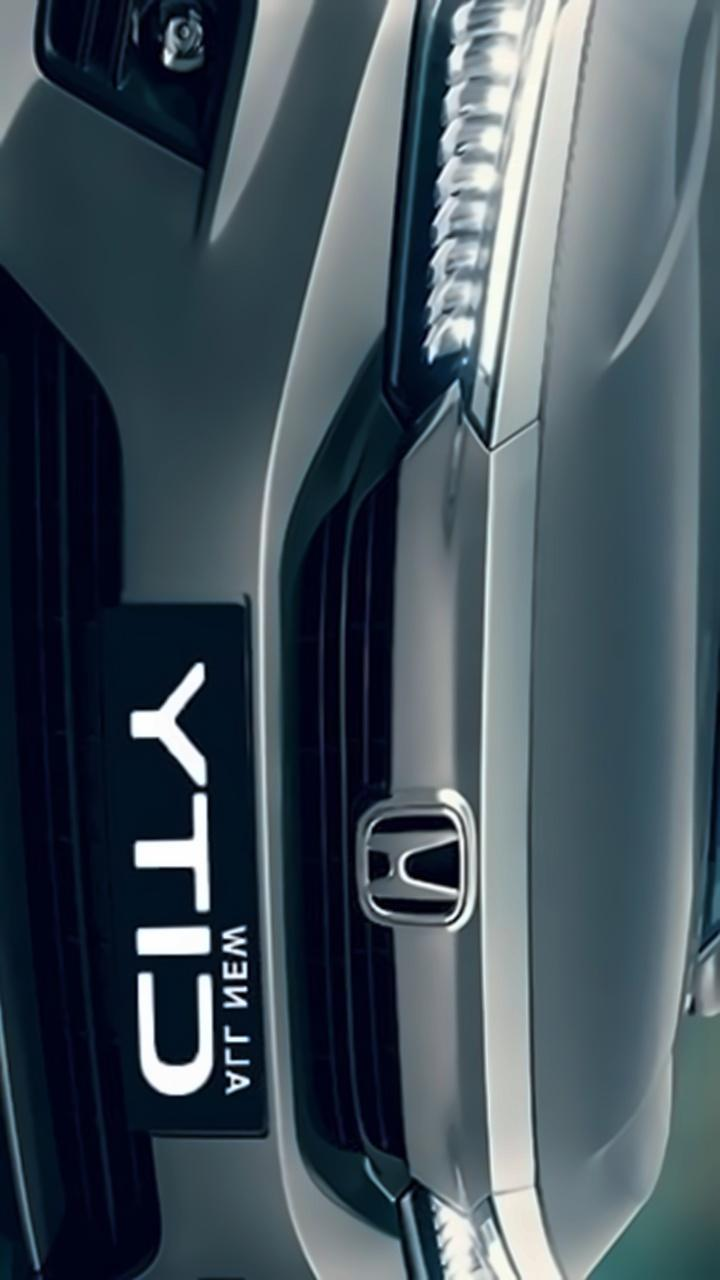Car hood: (527, 0, 720, 1280)
Front bumper: (0, 4, 413, 1280)
Headlight - -L-: (367, 1137, 586, 1280)
Headlight - -R-: (374, 0, 586, 453)
